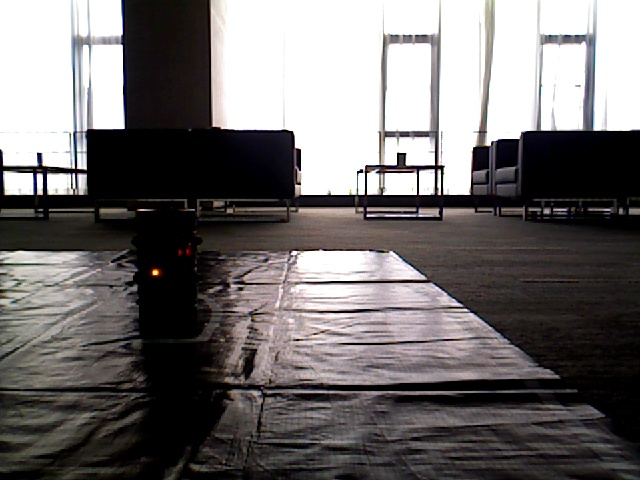yellow: (134, 210, 176, 312)
